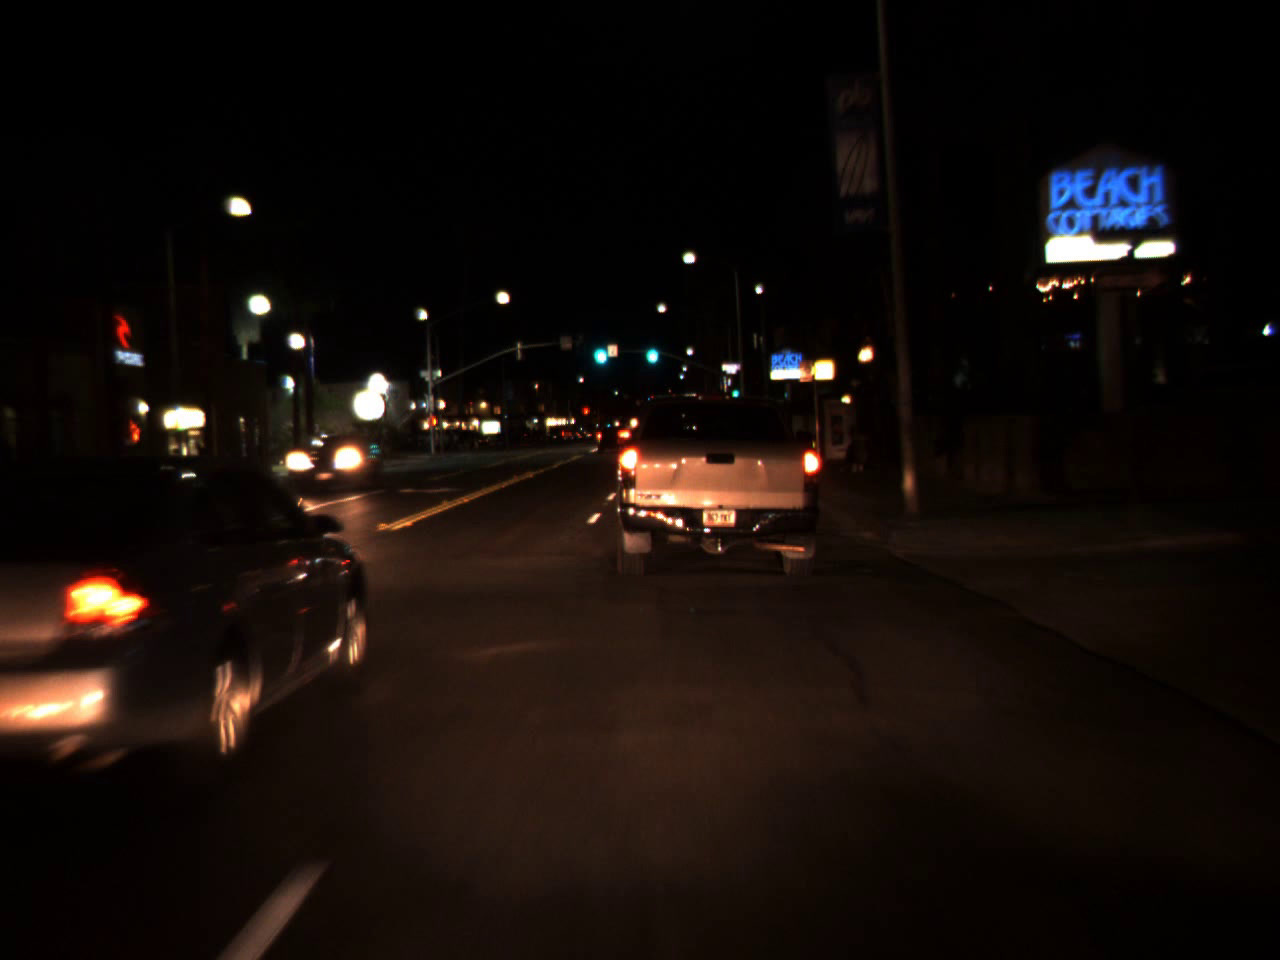go: (589, 330, 610, 369), (643, 332, 661, 368), (732, 383, 739, 398)
